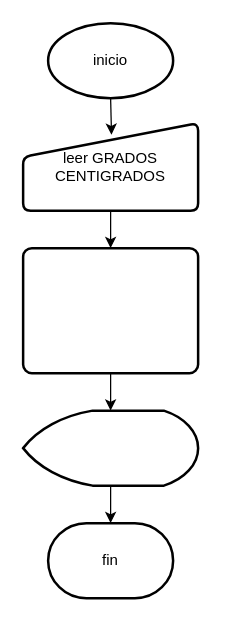
This 230x620 diagram has some shape labels left out. The box of each missing label's shape, as (x1, y1, x2, y2) in pixels:
F = (GRADOS CENTIGRADOS*9/5) + 32: (21, 246, 199, 374)
imprimir "GRADOS FAHRENHEIT"+F: (21, 409, 199, 486)
